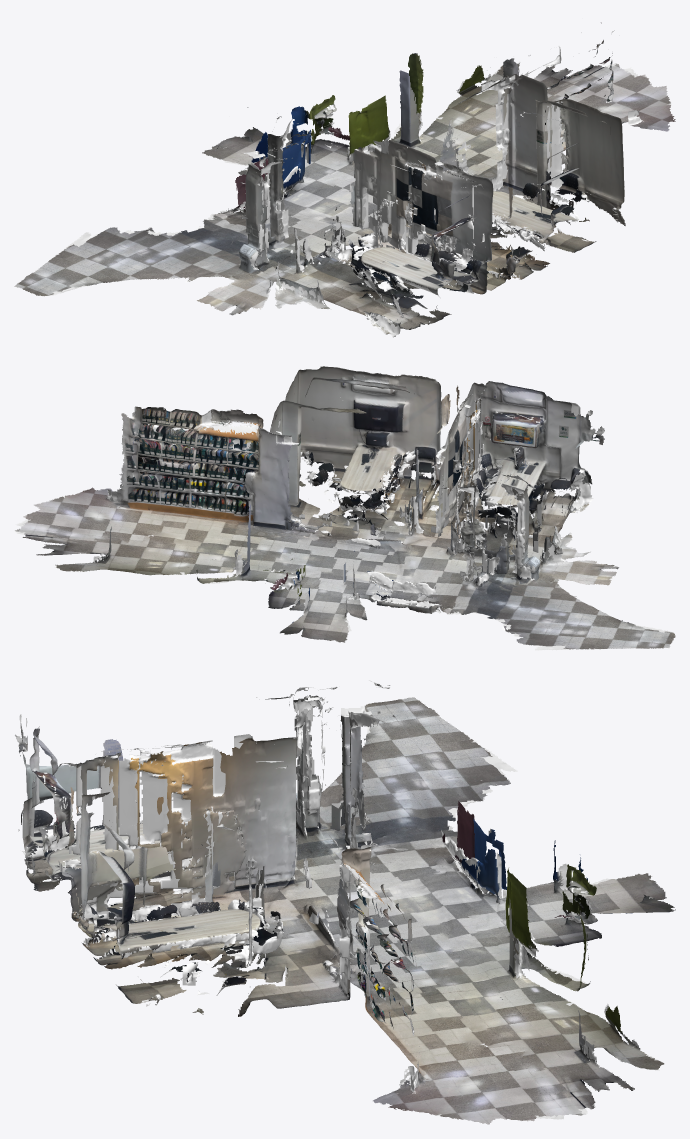
3 views of the same model, one above another, from view 1: azimuth 30°, elevation 25°; view 2: azimuth 150°, elevation 25°; view 3: azimuth 270°, elevation 25° (orthographic). The views are drawn at different scales.
Visible parts, largest first — view 1: object 5, texture_2, texture_1, texture_0, texture_3, texture_7, texture_4, texture_9, texture_6, texture_5, texture_8; view 2: texture_2, texture_6, texture_0, object 5, texture_8, texture_9, texture_3, texture_7, texture_1, texture_5, texture_4; view 3: texture_2, object 5, texture_5, texture_0, texture_1, texture_6, texture_3, texture_4, texture_9, texture_8, texture_7.
Boxes of the visible parts, x1,y1,x2,y2 form: object 5: [48, 30, 671, 337]; texture_2: [350, 53, 675, 278]; texture_1: [202, 95, 428, 280]; texture_0: [14, 86, 556, 296]; texture_3: [298, 74, 625, 242]; texture_7: [206, 138, 478, 329]; texture_4: [268, 140, 528, 298]; texture_9: [358, 159, 548, 333]; texture_6: [486, 108, 624, 279]; texture_5: [187, 134, 500, 315]; texture_8: [511, 22, 628, 151]; texture_2: [15, 443, 438, 584]; texture_6: [294, 367, 459, 534]; texture_0: [200, 429, 675, 649]; object 5: [14, 388, 671, 650]; texture_8: [104, 406, 284, 553]; texture_9: [337, 377, 591, 531]; texture_3: [163, 366, 482, 596]; texture_7: [450, 413, 604, 589]; texture_1: [242, 488, 558, 642]; texture_5: [338, 400, 618, 614]; texture_4: [365, 391, 532, 606]; texture_2: [72, 846, 664, 1124]; object 5: [18, 680, 663, 1119]; texture_5: [110, 695, 482, 967]; texture_0: [292, 697, 510, 1020]; texture_1: [294, 715, 675, 977]; texture_6: [68, 787, 317, 1003]; texture_3: [146, 815, 501, 1042]; texture_4: [52, 752, 457, 960]; texture_9: [21, 726, 261, 977]; texture_8: [341, 846, 539, 1092]; texture_7: [15, 684, 389, 888].
Size of the model in its own units: 16 by 2.93 by 10.04.
11 materials, 10 textured.
